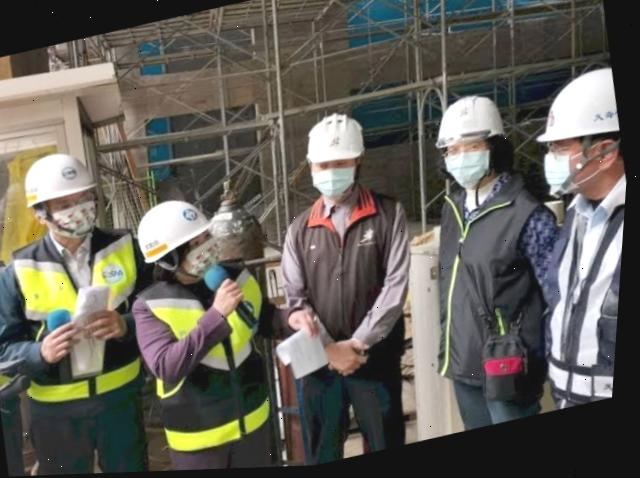helmet: (101, 177, 236, 280), (514, 54, 627, 162), (410, 74, 514, 168), (278, 90, 384, 182), (8, 138, 110, 220)
vest: (125, 260, 304, 470), (0, 214, 165, 419)
